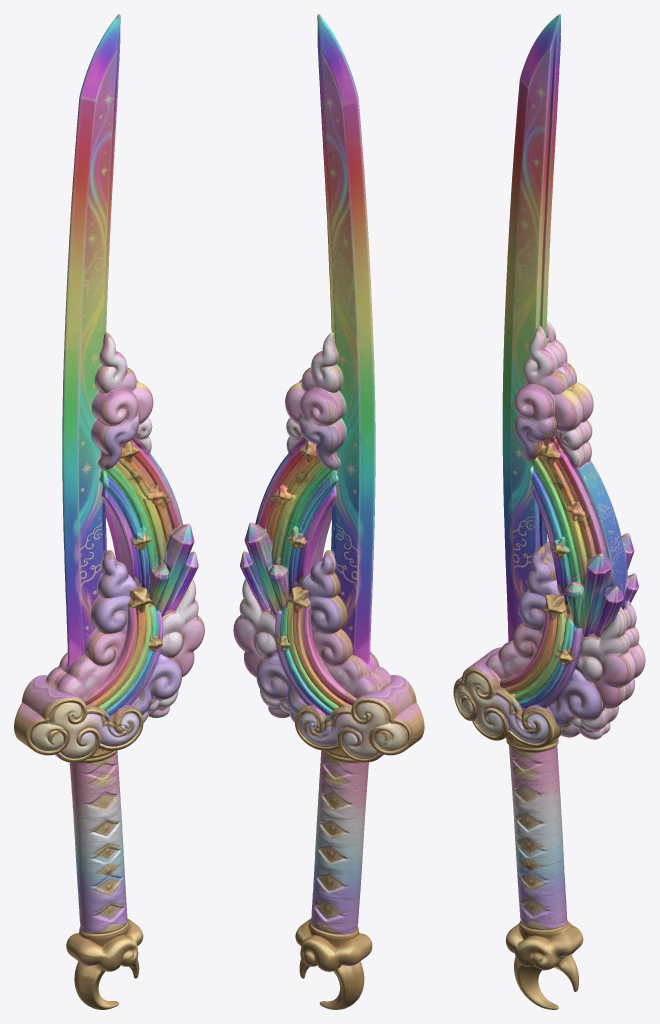
Rendered from Meshy_AI_Prismatic_Dreamblade_1016085952_texture.glb.
3 views of the same model, side by side, from view 1: azimuth 30°, elevation 25°; view 2: azimuth 150°, elevation 25°; view 3: azimuth 330°, elevation 25° (orthographic).
Bounding box in the file's own units: 0.3593 × 1.9 × 0.1279.
Materials: 1 (1 with a texture image).
